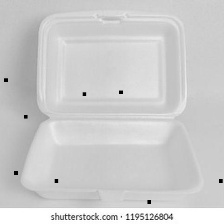foam_box: (14, 4, 210, 207)
